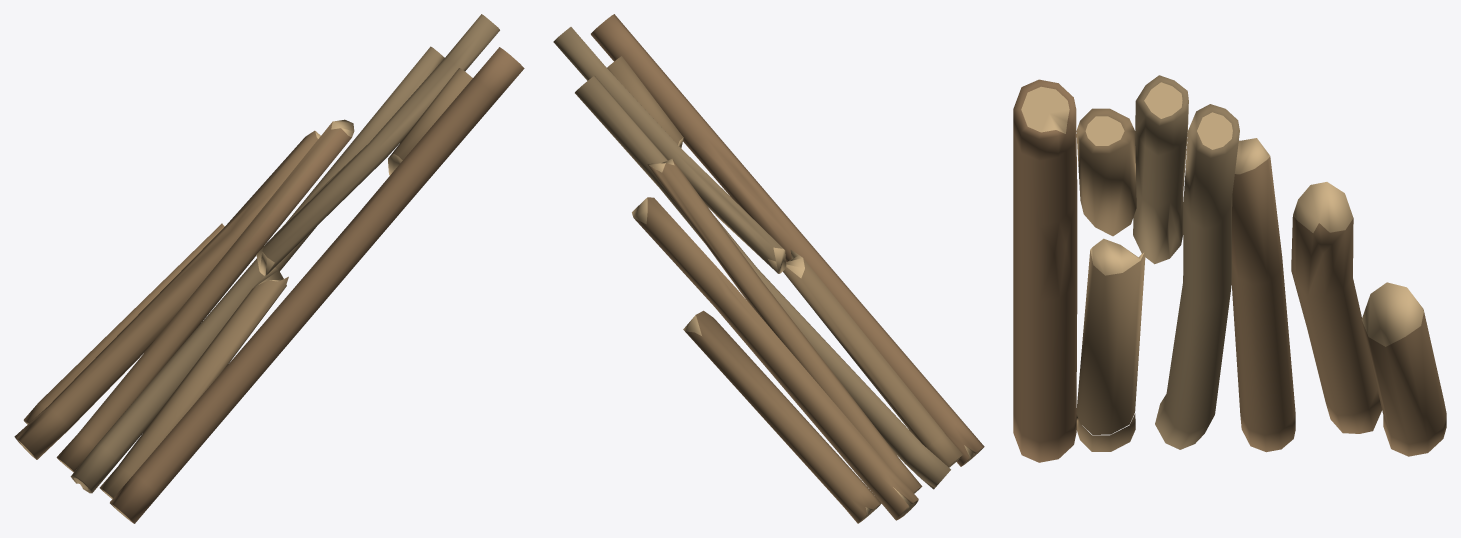
Rendered from rpgpp_av_roof_01_9x4x3_half_c.gltf.
3 renders of one model, left to right at view 1: azimuth 30°, elevation 25°; view 2: azimuth 150°, elevation 25°; view 3: azimuth 270°, elevation 25°, orthographic. The views are drawn at different scales.
Parts seen in each view (by area): view 1: rpgpp_av_roof_01_9x4x3_half_c; view 2: rpgpp_av_roof_01_9x4x3_half_c; view 3: rpgpp_av_roof_01_9x4x3_half_c.
Part boxes in pixels (x1,y1,x2,y2): rpgpp_av_roof_01_9x4x3_half_c: [14, 14, 524, 523]; rpgpp_av_roof_01_9x4x3_half_c: [553, 14, 984, 523]; rpgpp_av_roof_01_9x4x3_half_c: [1013, 75, 1446, 462].
Bounding box in the file's own units: 0.063 × 0.0546 × 0.0289.
Materials: 1 (1 with a texture image).
